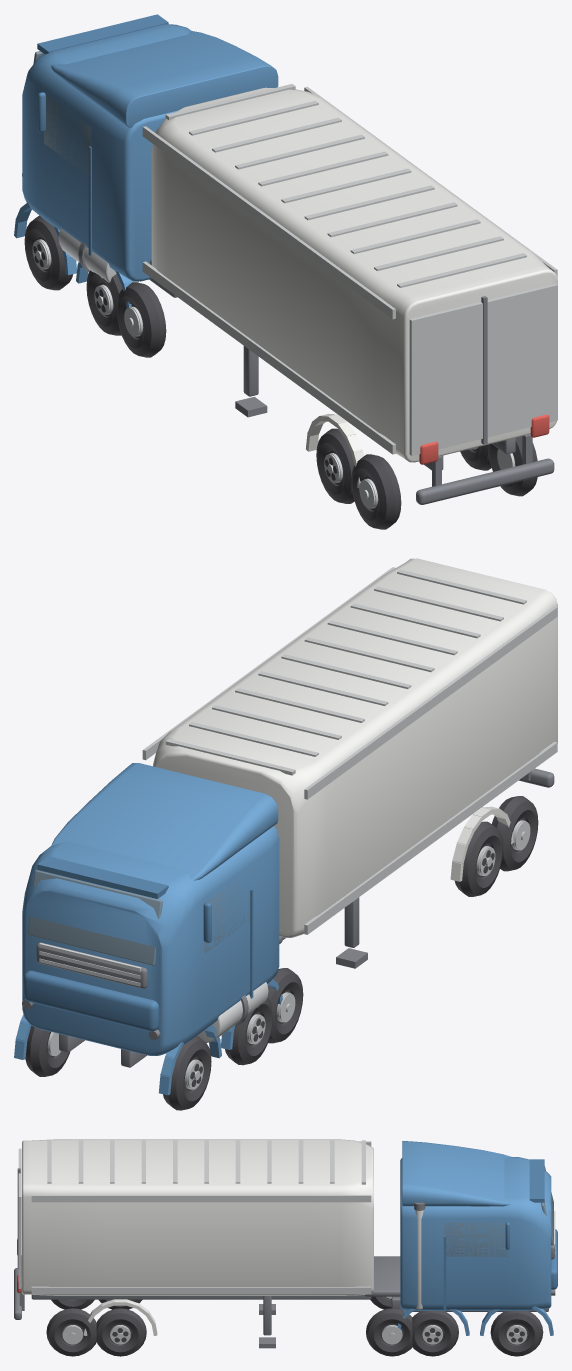
Rendered from th7_lkw.glb.
3 views of the same model, one above another, from view 1: azimuth 30°, elevation 25°; view 2: azimuth 150°, elevation 25°; view 3: azimuth 270°, elevation 25° (orthographic). The views are drawn at different scales.
Visible parts, largest first — view 1: Karosserie.002, Karosserie, Cube.032, Karosserie.001, Cube.029, Cube.028, Torus.008, Torus.004, Cube.036, Cube.001, Torus, Torus.006 (+18 smaller); view 2: Karosserie.002, Karosserie, Karosserie.001, Cube.009, Cube.029, Cube, Cube.028, Cube.016, Torus.006, Torus, Torus.008, Torus.004 (+18 smaller); view 3: Karosserie.002, Karosserie, Karosserie.001, Cube.030, Cube.031, Cube.005, Torus.007, Torus.001, Torus.009, Torus.005, Torus.003, Cube.042 (+11 smaller).
Boxes of the visible parts, box(x1,y1,x2,y2) form: Karosserie.002: box(151, 87, 557, 462); Karosserie: box(22, 24, 191, 281); Cube.032: box(409, 283, 557, 455); Karosserie.001: box(51, 31, 278, 127); Cube.029: box(142, 126, 395, 319); Cube.028: box(142, 261, 395, 454); Torus.008: box(351, 454, 401, 529); Torus.004: box(117, 282, 166, 357); Cube.036: box(416, 458, 554, 504); Cube.001: box(44, 94, 91, 175); Torus: box(24, 215, 72, 290); Torus.006: box(316, 428, 354, 503); Karosserie.002: box(153, 558, 557, 937); Karosserie: box(22, 826, 279, 1055); Karosserie.001: box(51, 763, 278, 880); Cube.009: box(23, 970, 159, 1031); Cube.029: box(304, 606, 557, 799); Cube: box(27, 870, 162, 965); Cube.028: box(304, 742, 557, 934); Cube.016: box(37, 856, 168, 898); Torus.006: box(455, 821, 503, 896); Torus: box(163, 1036, 211, 1110); Torus.008: box(492, 796, 538, 871); Torus.004: box(267, 968, 303, 1043); Karosserie.002: box(22, 1139, 373, 1295); Karosserie: box(400, 1157, 551, 1310); Karosserie.001: box(402, 1141, 511, 1206); Cube.030: box(31, 1286, 371, 1294); Cube.031: box(31, 1195, 371, 1202); Cube.005: box(444, 1222, 508, 1256); Torus.007: box(96, 1308, 146, 1356); Torus.001: box(490, 1311, 543, 1356); Torus.009: box(46, 1308, 96, 1356); Torus.005: box(366, 1308, 412, 1356); Torus.003: box(412, 1311, 458, 1356); Cube.042: box(31, 1294, 371, 1299).
Size of the model in its own units: 2.67 by 3.75 by 10.73.
